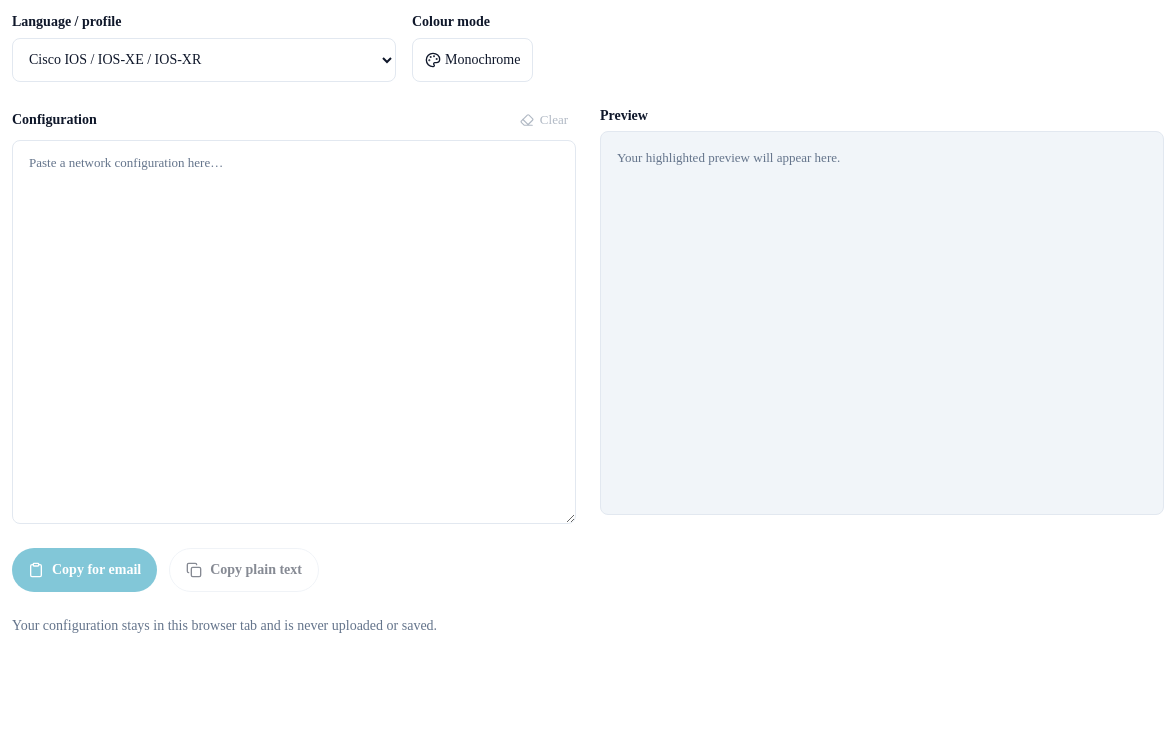
Test: ConfigTool › clears the input and rendered preview
The width and height of the screenshot is (1164, 732).
Type "interface GigabitEthernet0/1" into the text box with test id "config-input". click: x=294, y=332
box: [12,140,576,524]
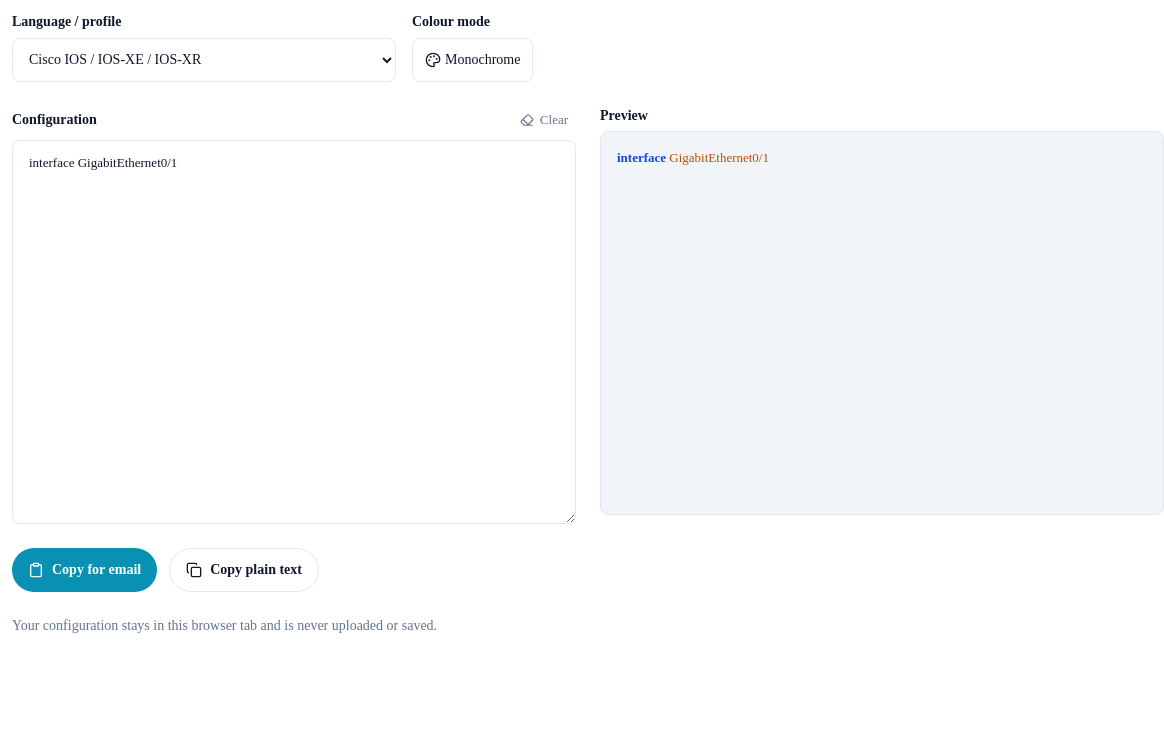
Click the button with test id "config-clear". click: x=544, y=120
box: [512,106,576,133]
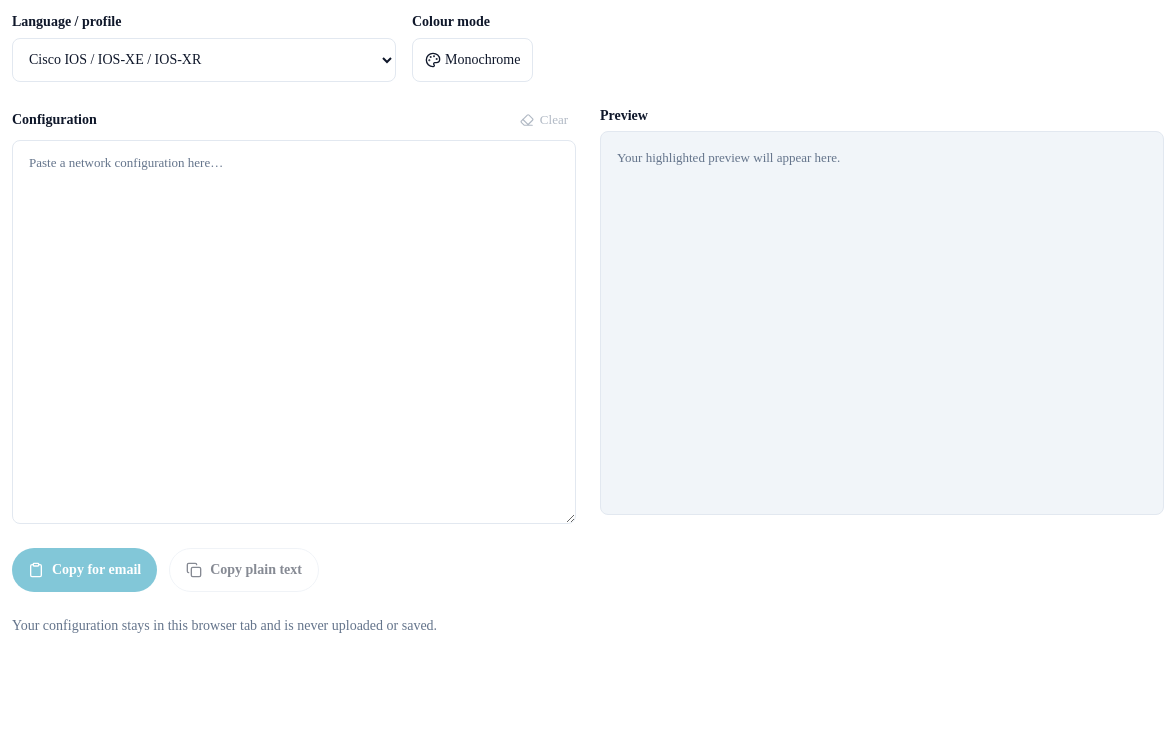
Expected: the text box with test id "config-input" is empty, [12,140,576,524]
Expected: the element with test id "config-preview" reads "Your highlighted preview will appear here.", [617,150,840,165]
Expected: the button with test id "config-copy-rich" is disabled, [12,548,157,592]
